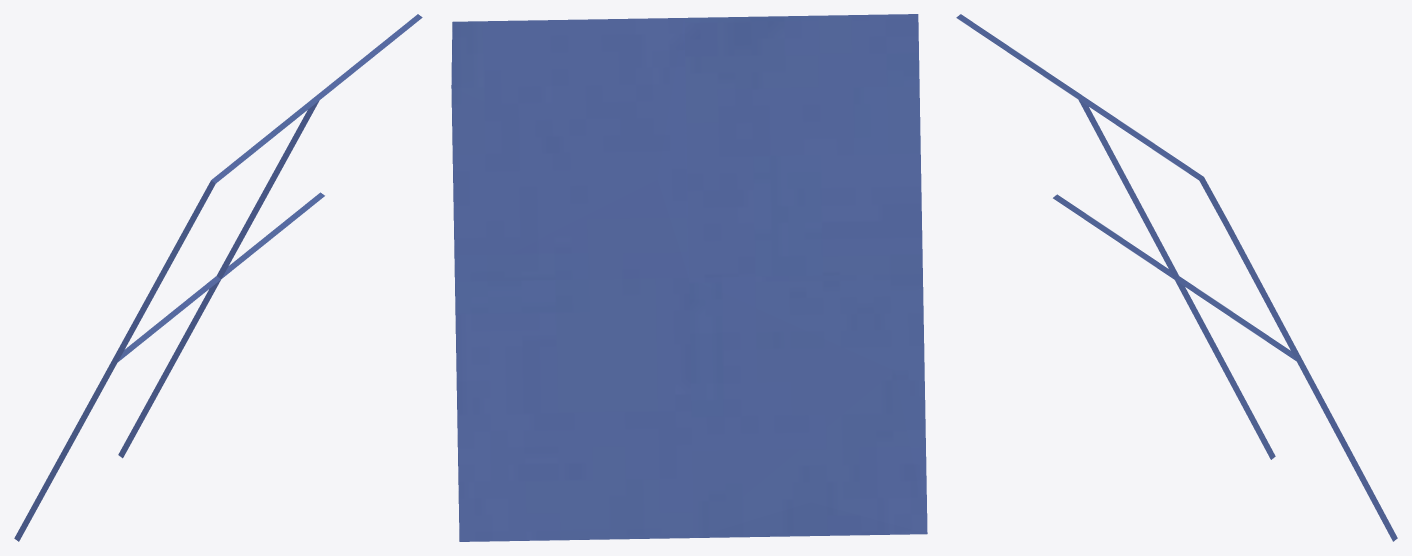
3 views of the same model, side by side, from view 1: azimuth 30°, elevation 25°; view 2: azimuth 150°, elevation 25°; view 3: azimuth 270°, elevation 25° (orthographic). The views are drawn at different scales.
Size of the model in its own units: 19658 by 17635 by 17029.
1 material, 1 textured.
